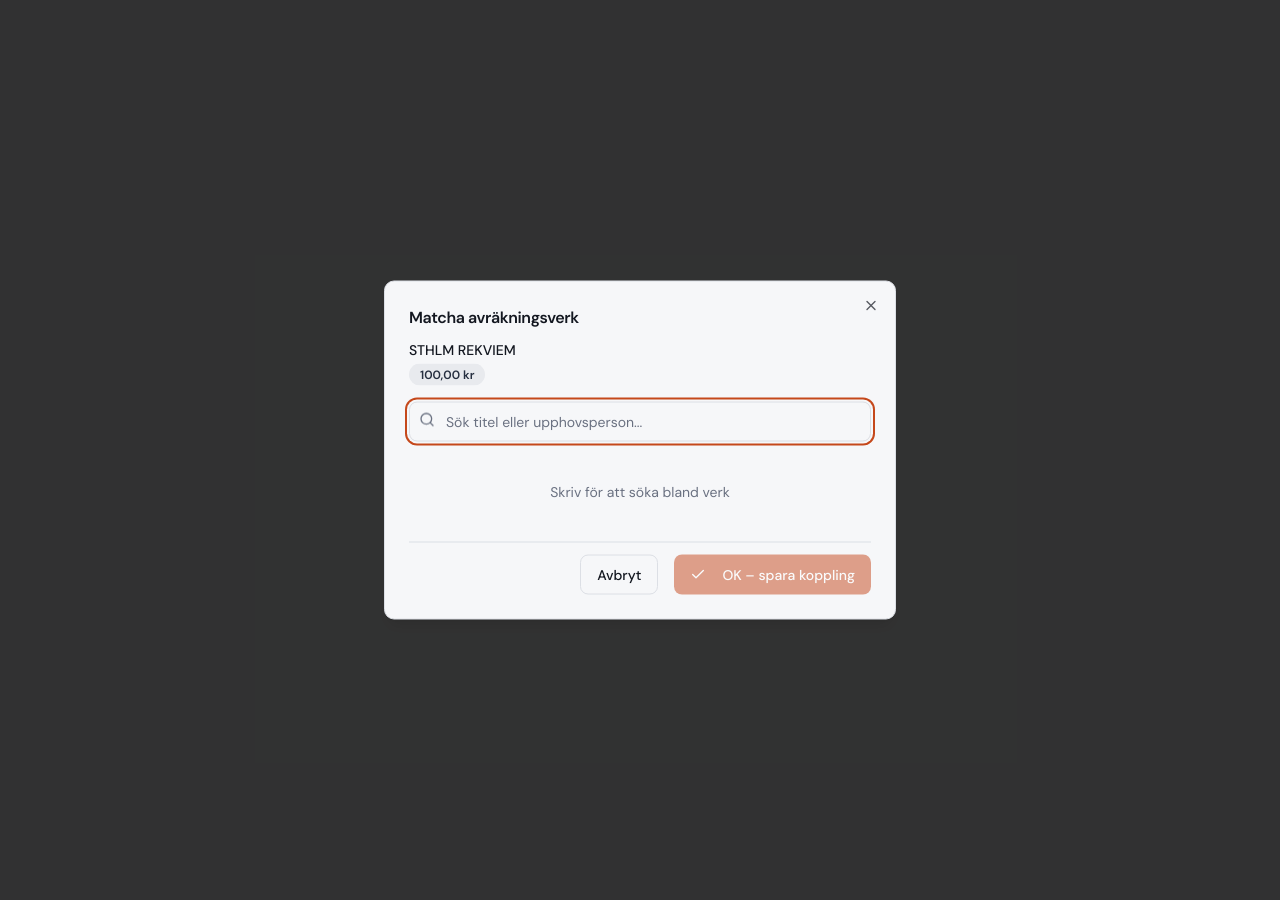
Test: manual settlement matching › keeps a failed selection available for retry without closing
Later steps or results of the test are not shown.
Type "reqviem" into the field.
click(640, 422); type("reqviem")  # box [409, 402, 871, 442]
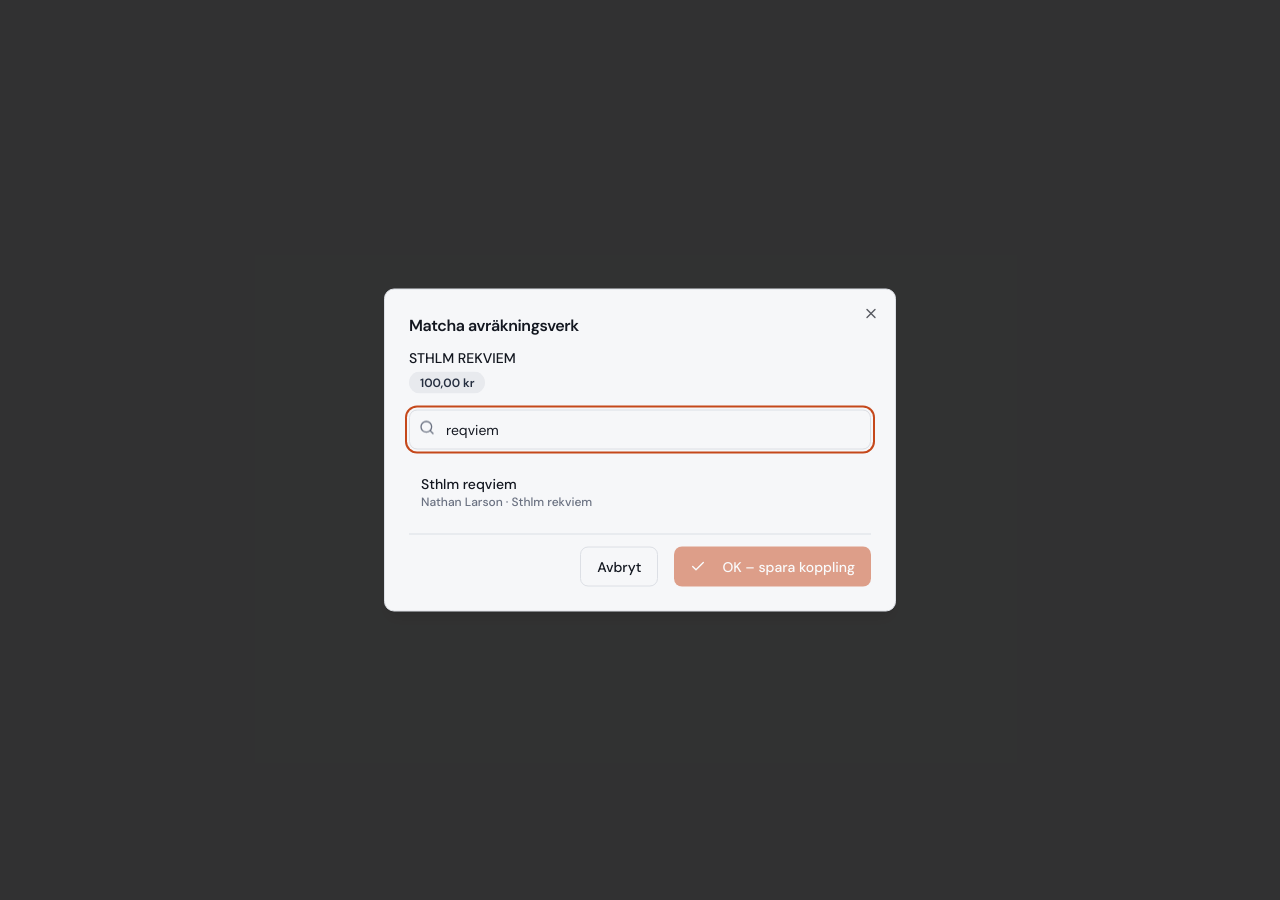
Click the button "Sthlm reqviem Nathan Larson · Sthlm rekviem".
click(469, 484)  # box [409, 466, 871, 518]
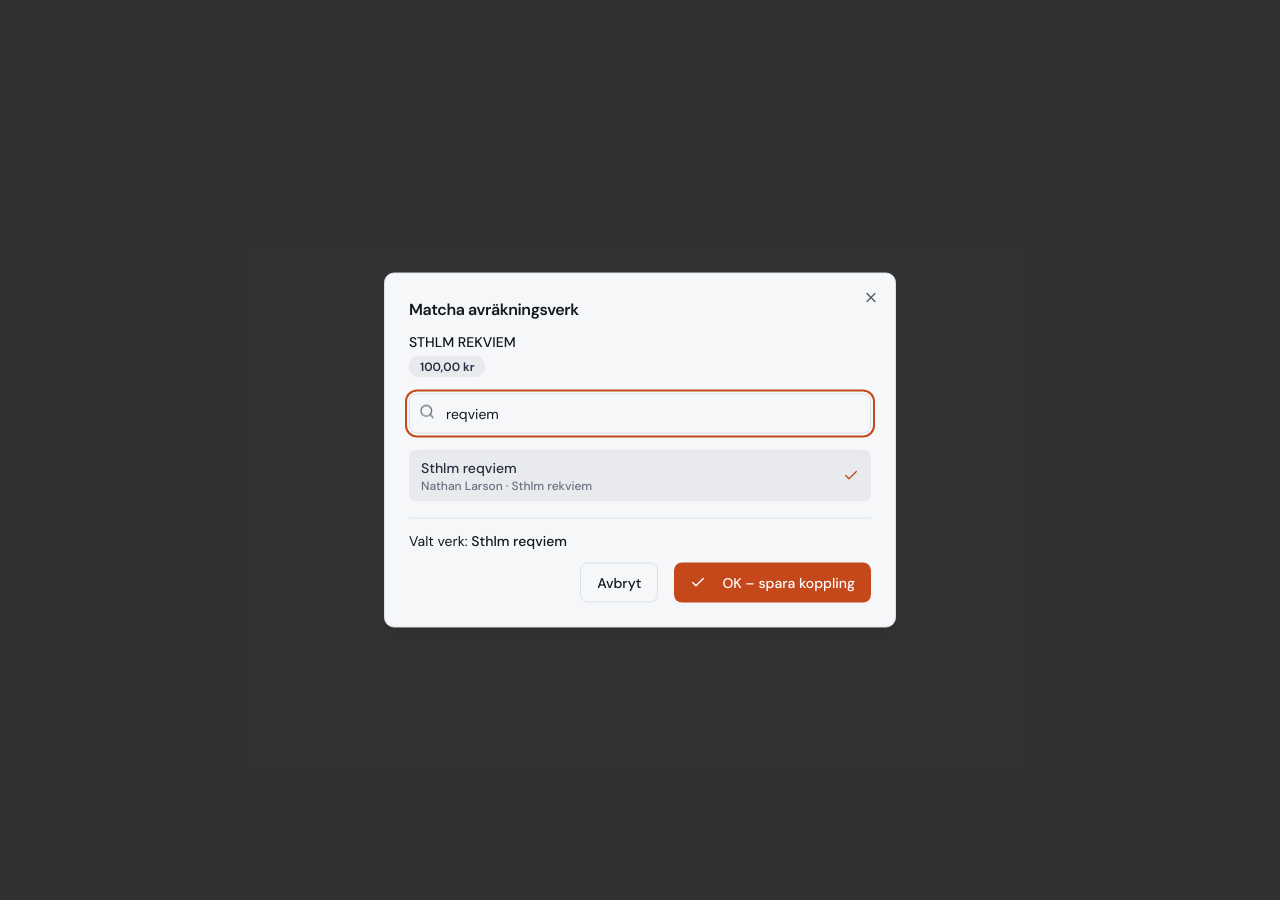
Click the button "OK – spara koppling".
click(773, 582)  # box [674, 562, 871, 602]
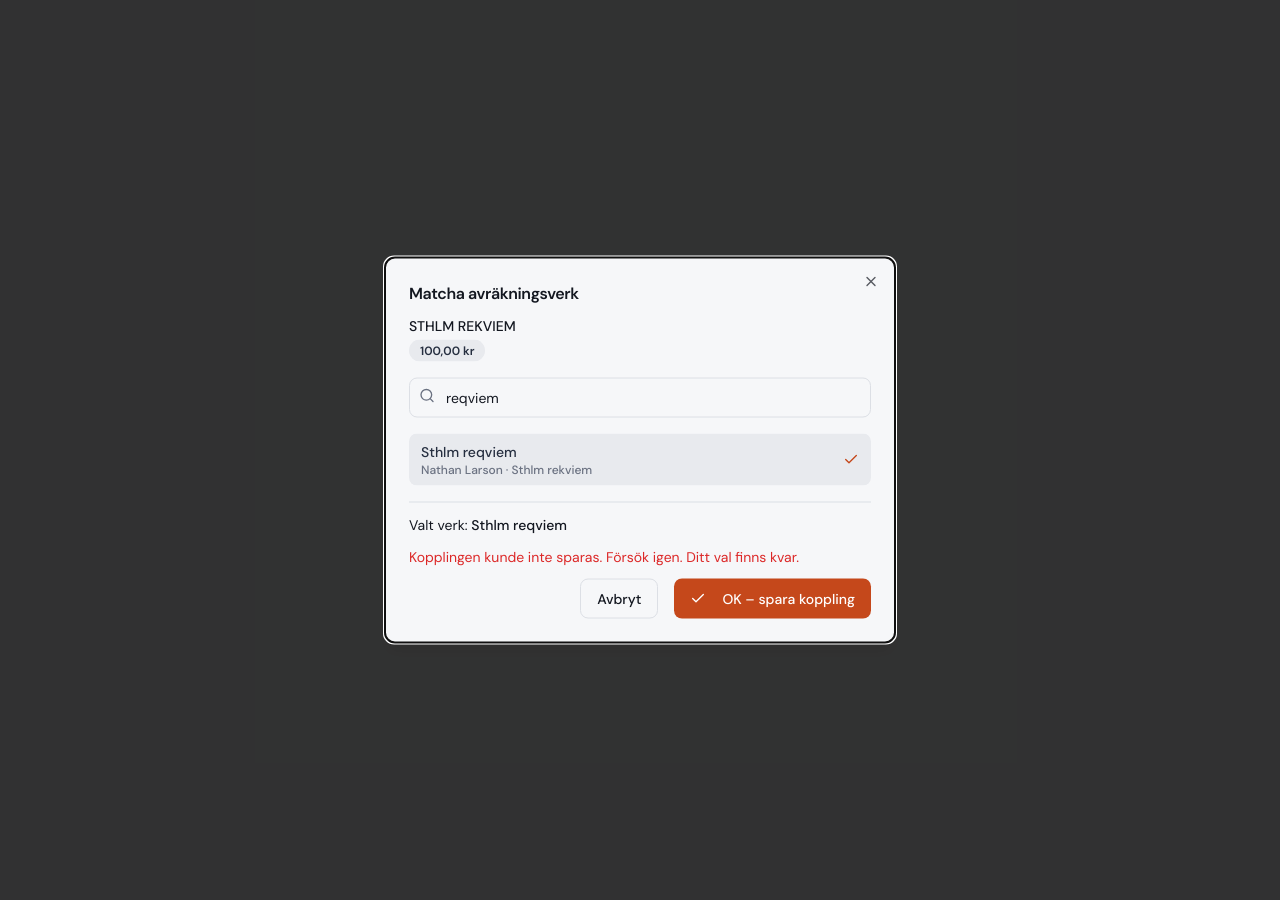
Now the message "Kopplingen kunde inte sparas. Försök igen. Ditt val finns kvar." is shown, box [409, 548, 799, 566]
